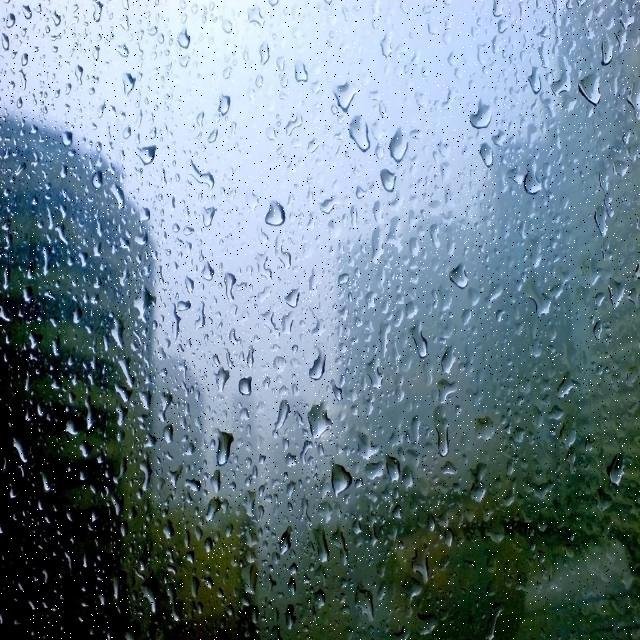raindrop: (340, 111, 380, 172), (604, 450, 640, 512), (509, 152, 547, 206), (406, 319, 442, 375), (122, 278, 160, 331), (296, 405, 340, 450), (545, 49, 578, 106), (176, 152, 219, 195), (300, 344, 334, 398), (305, 530, 341, 578), (228, 560, 269, 602), (426, 412, 460, 462), (256, 194, 294, 238), (454, 96, 495, 135), (328, 458, 359, 509), (381, 124, 414, 168), (442, 344, 464, 406), (518, 52, 552, 92), (203, 362, 236, 402), (217, 266, 244, 314), (112, 68, 142, 110), (330, 74, 362, 113), (473, 132, 498, 180), (350, 584, 381, 622), (578, 68, 606, 110), (206, 428, 233, 471), (132, 135, 160, 175), (274, 287, 302, 326), (372, 163, 403, 198), (450, 259, 476, 297), (272, 530, 295, 560), (232, 376, 260, 398)
